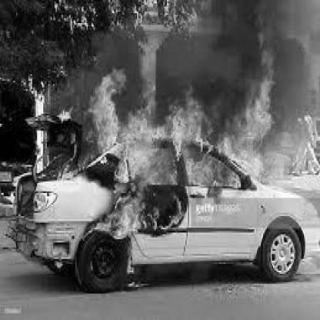Fire: (15, 40, 307, 286), (245, 4, 277, 42)
